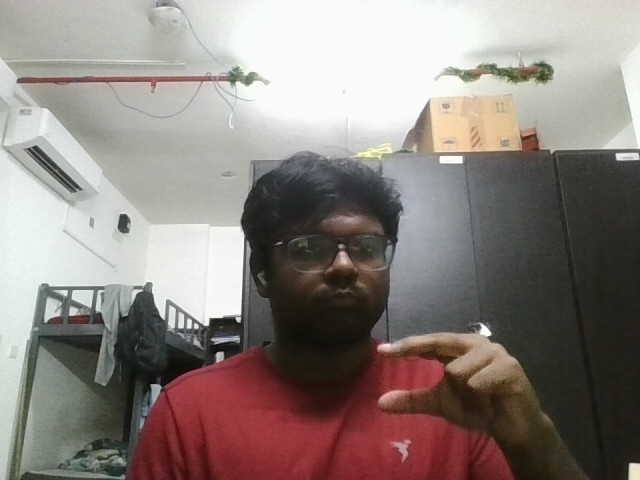No: (367, 315, 585, 453)
